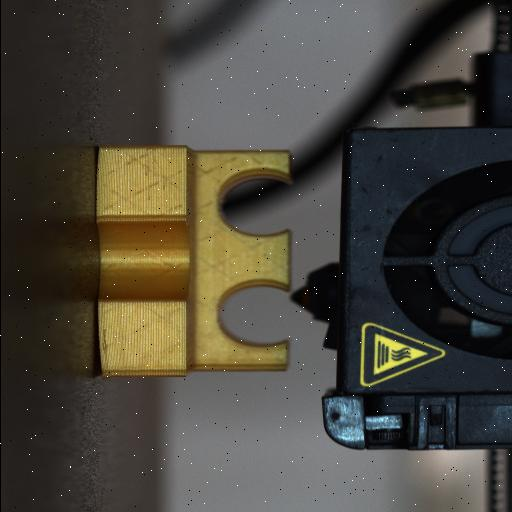warp: (90, 328, 116, 384)
